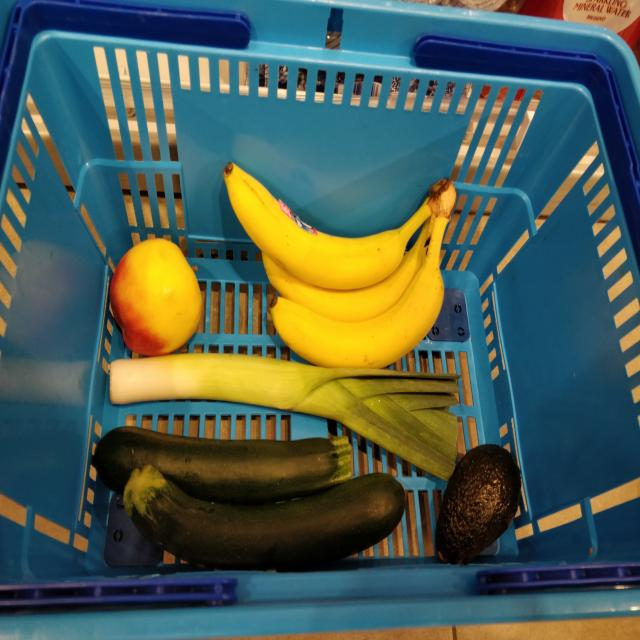Apple: (109, 237, 202, 359)
Banana: (223, 165, 458, 368)
